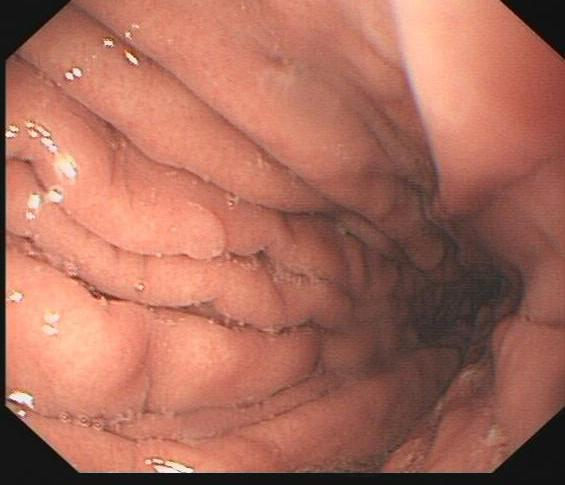Polyp: (170, 198, 234, 272)
